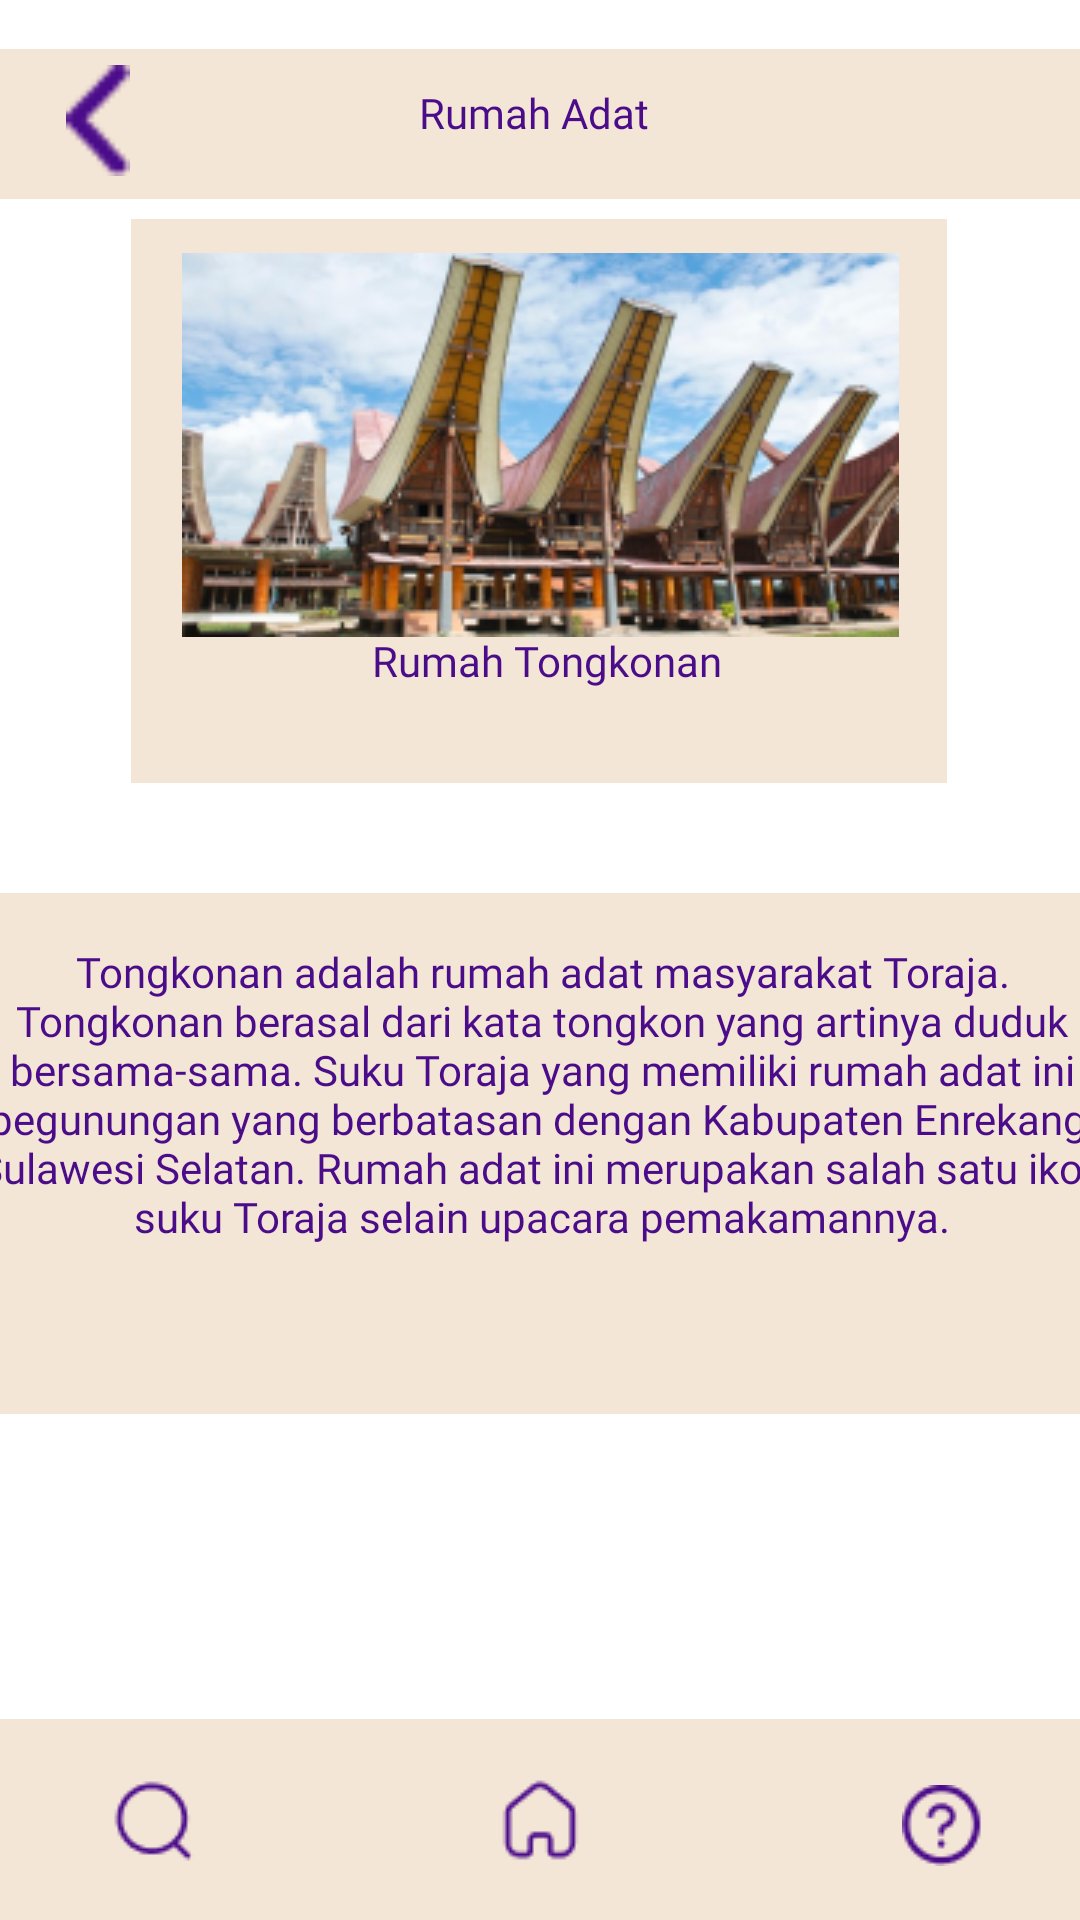

Locate icon controls on the screen. Image size 1080 × 1920, boxes as (x1, y1, x2, y2).
homeee: (503, 1780, 577, 1860)
xearch: (114, 1781, 191, 1861)
